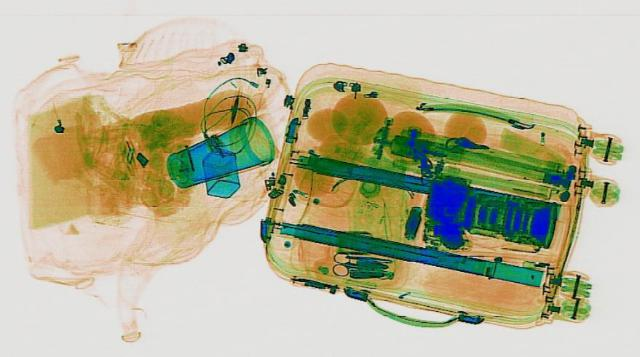Scissors: (324, 250, 396, 278)
